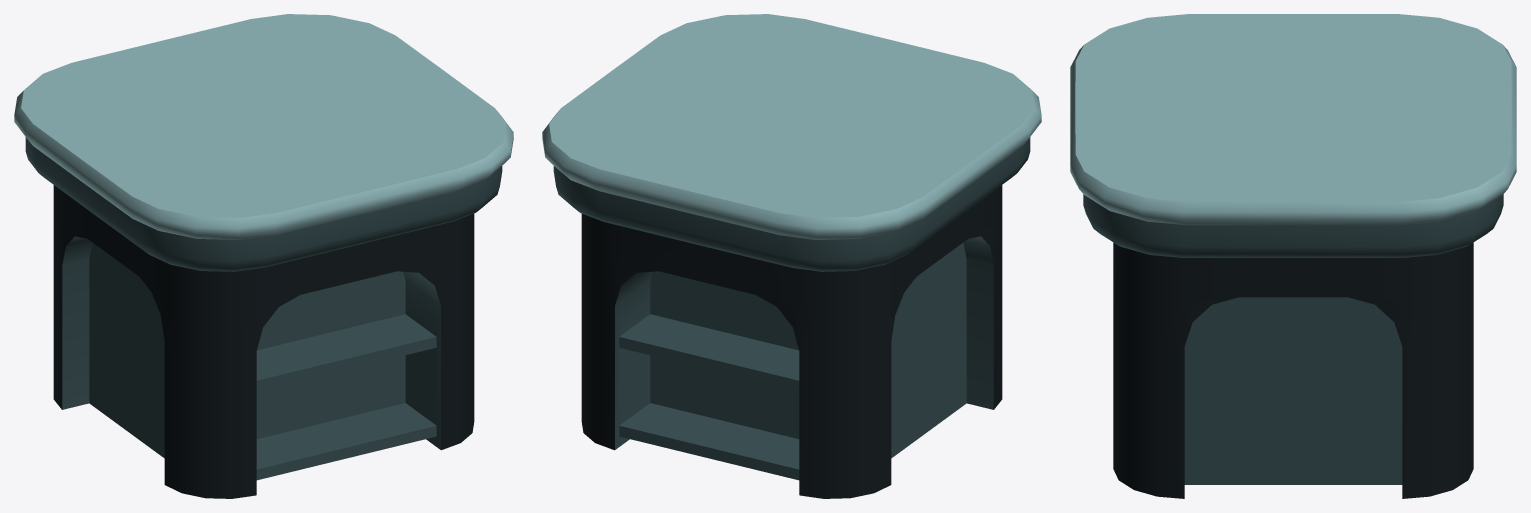
Rendered from FI_033_table_var2.glb.
The picture shows the model from 3 angles, left to right: view 1: azimuth 30°, elevation 25°; view 2: azimuth 150°, elevation 25°; view 3: azimuth 270°, elevation 25°; orthographic projection. The views are drawn at different scales.
Visible parts, largest first — view 1: table_var2; view 2: table_var2; view 3: table_var2.
Part boxes in pixels (x1,y1,x2,y2): table_var2: [14, 14, 513, 498]; table_var2: [542, 14, 1041, 498]; table_var2: [1070, 14, 1516, 498].
Size of the model in its own units: 1.48 by 1.12 by 1.46.
